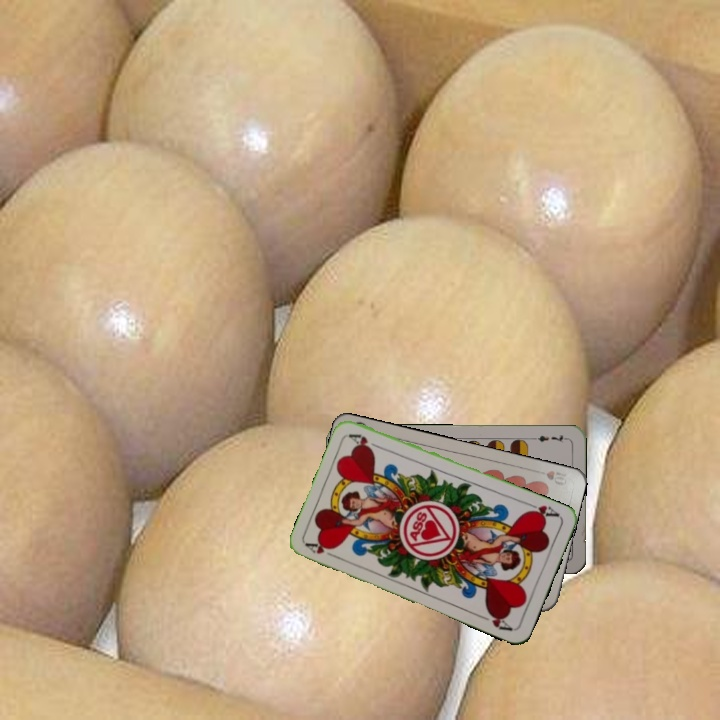E7: (529, 431, 570, 445)
H10: (531, 466, 570, 488)
HA: (522, 498, 562, 522), (302, 537, 341, 561)
